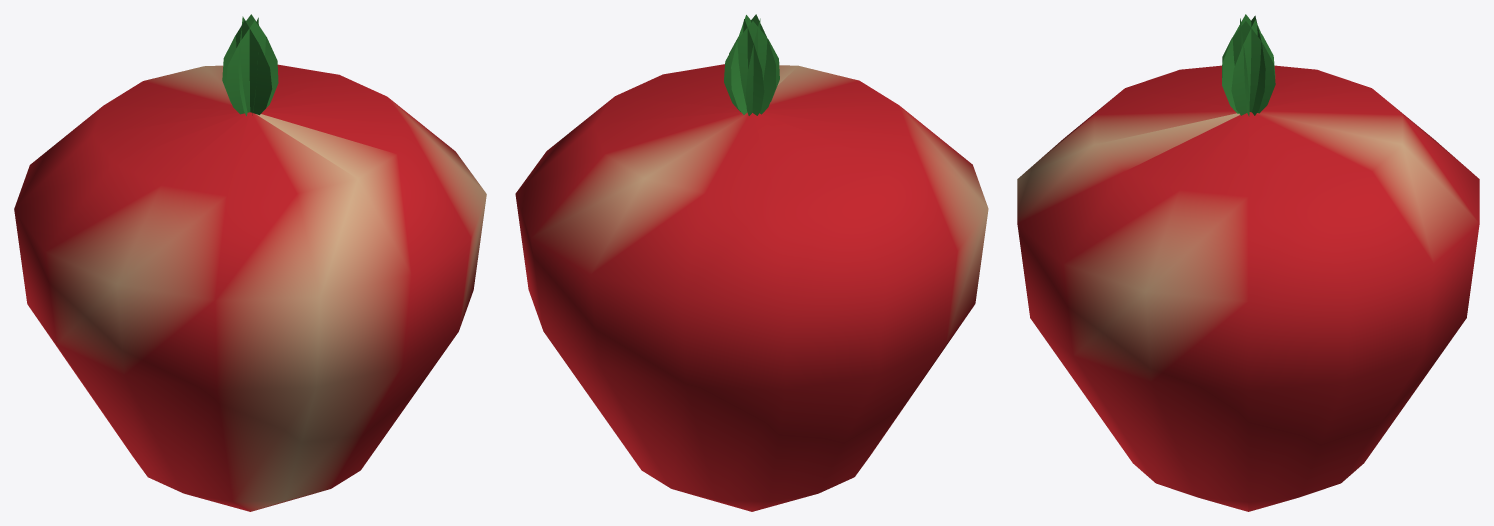
The model's file is fruit-strawberry-plain.gltf.
The picture shows the model from 3 angles, left to right: view 1: azimuth 30°, elevation 25°; view 2: azimuth 150°, elevation 25°; view 3: azimuth 270°, elevation 25°; orthographic projection.
Size of the model in its own units: 0.252 by 0.29 by 0.2457.
